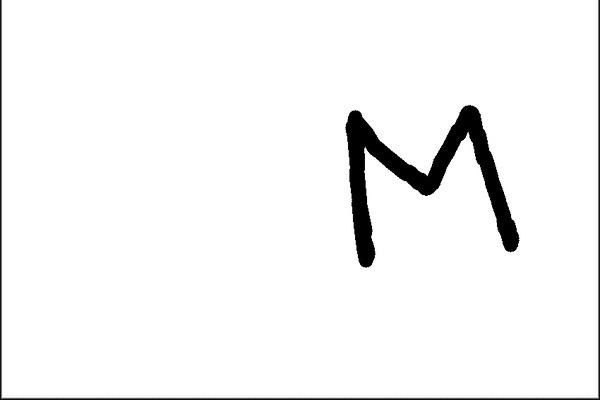M: (346, 102, 518, 269)
